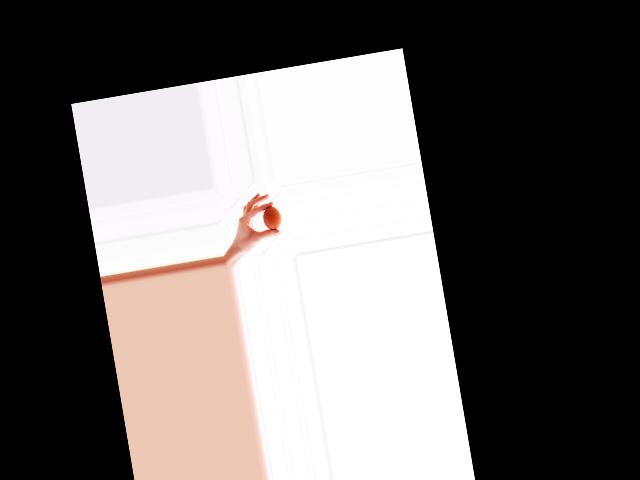egg: (262, 204, 283, 231)
